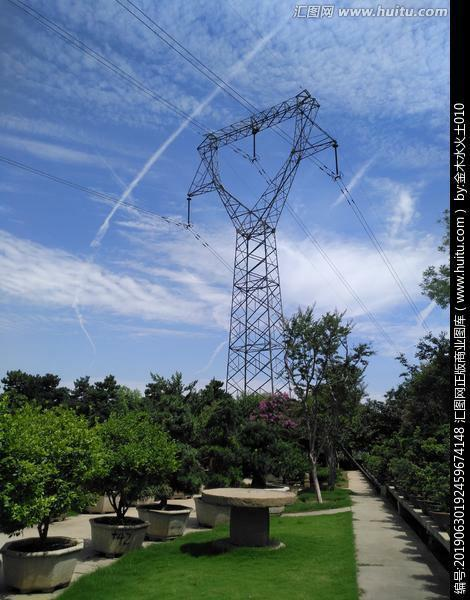power_tower: (165, 87, 345, 414)
